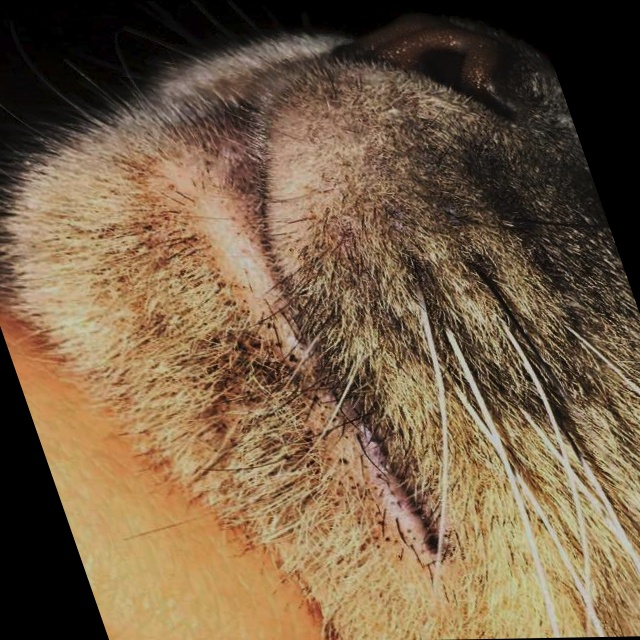acne: (175, 314, 406, 572)
